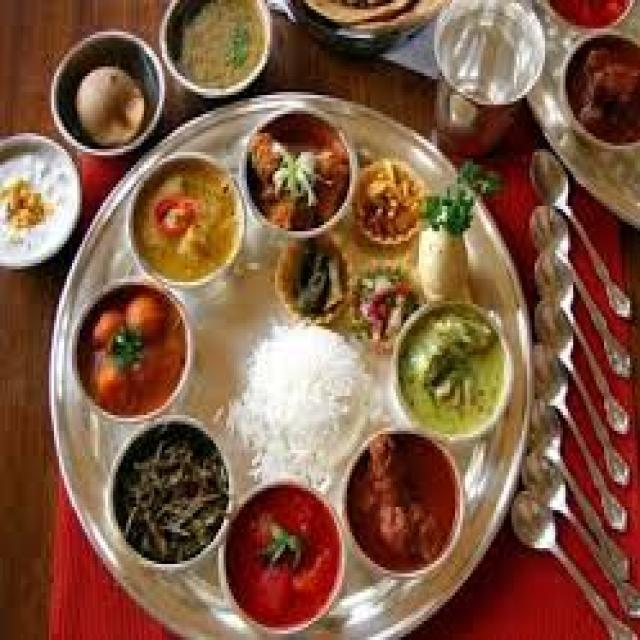curd: (387, 289, 518, 453)
dal: (163, 0, 274, 93)
pickle: (565, 44, 640, 147)
rice: (237, 316, 383, 487)
sambar-rasam: (220, 472, 347, 627), (339, 433, 468, 571), (159, 0, 276, 93)
sweet: (223, 477, 349, 628), (126, 159, 250, 288), (71, 285, 195, 412), (118, 432, 228, 550), (0, 144, 80, 267)
